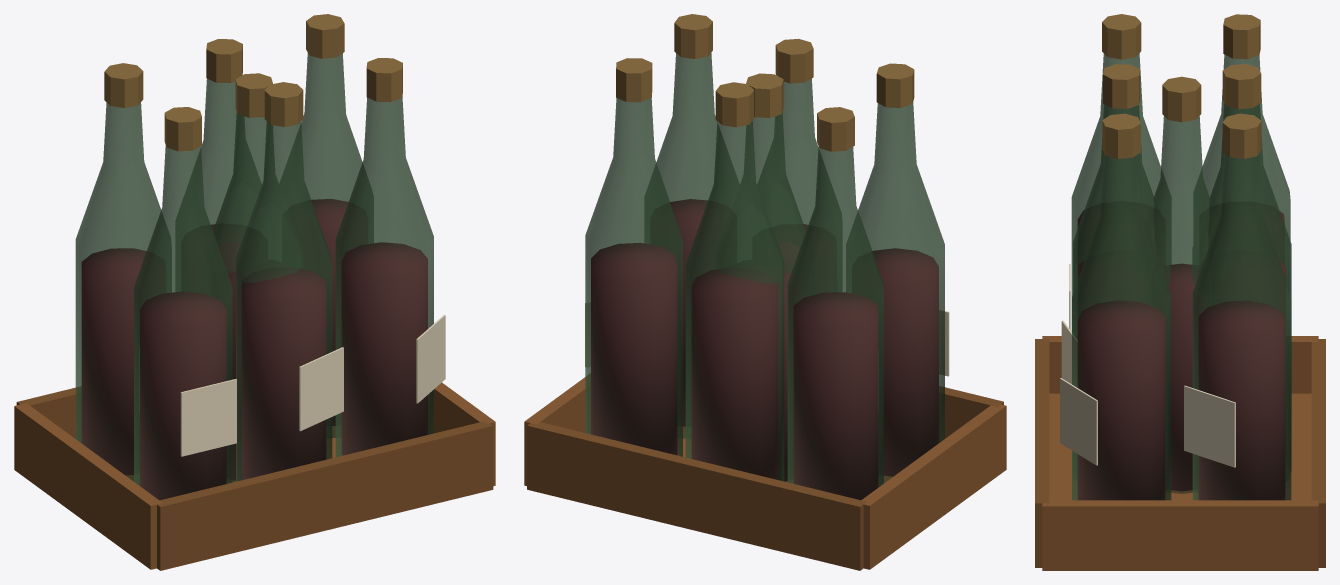
Rendered from Alc_FruitWine.fbx.
The picture shows the model from 3 angles, left to right: view 1: azimuth 30°, elevation 25°; view 2: azimuth 150°, elevation 25°; view 3: azimuth 270°, elevation 25°; orthographic projection.
Parts seen in each view (by area): view 1: Alc_FruitWine__Stack, Alc_FruitWine; view 2: Alc_FruitWine__Stack, Alc_FruitWine; view 3: Alc_FruitWine__Stack, Alc_FruitWine.
Boxes of the visible parts, <box> form: Alc_FruitWine__Stack: <box>14,14,495,570</box>; Alc_FruitWine: <box>205,73,302,482</box>; Alc_FruitWine__Stack: <box>524,14,1006,570</box>; Alc_FruitWine: <box>716,73,813,481</box>; Alc_FruitWine__Stack: <box>1035,14,1325,570</box>; Alc_FruitWine: <box>1145,76,1217,493</box>.
Bounding box in the file's own units: 0.226 × 0.256 × 0.163.
